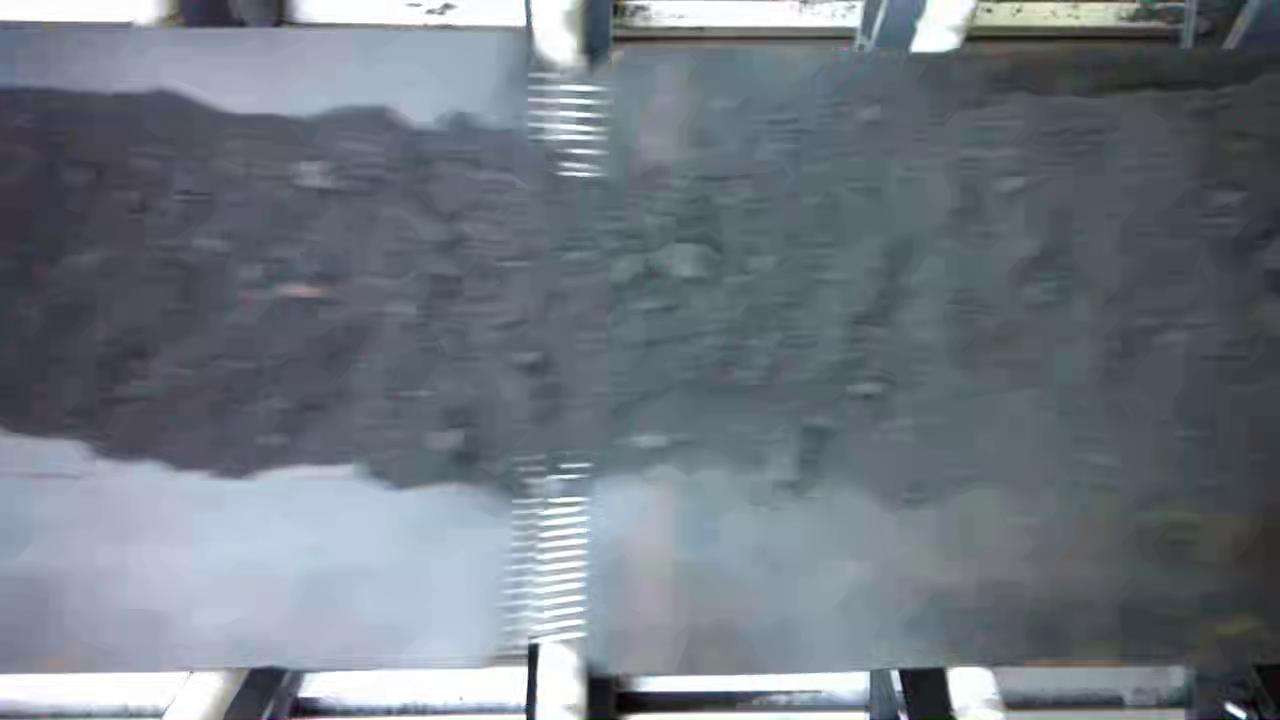conveyor: (1, 52, 1280, 654)
